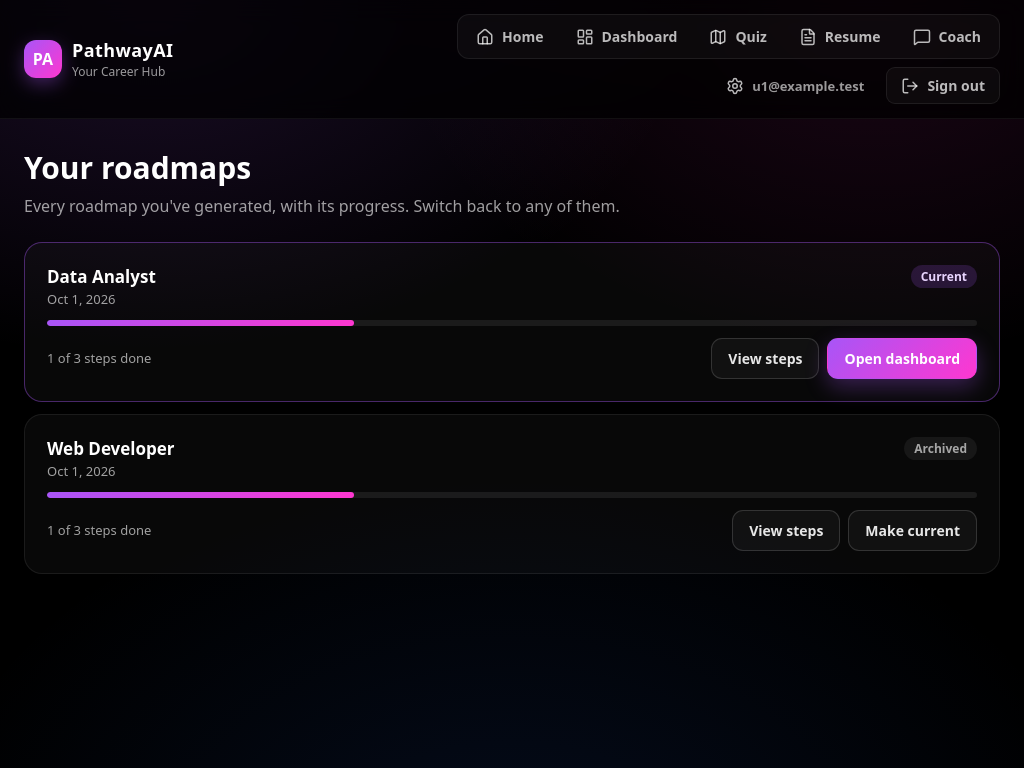
Test: /roadmaps › makes an archived roadmap current and reloads
Click the button "Make current": (913,530) [848,510,977,551]
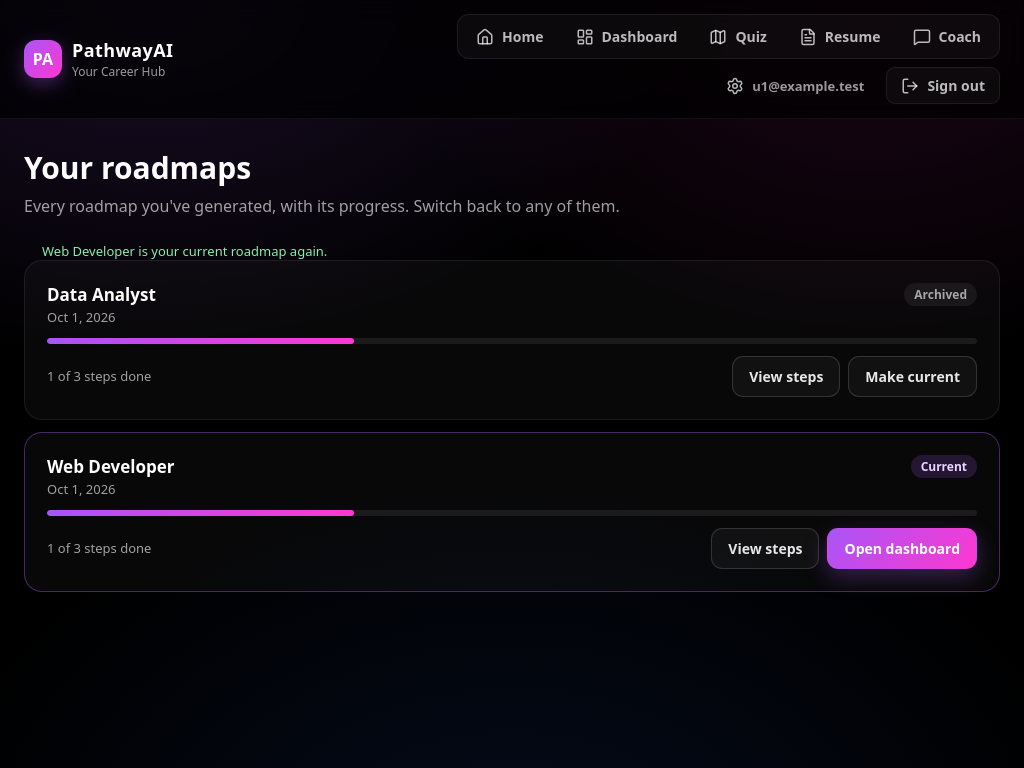
Check: the text "Web Developer is your current roadmap again." is shown, box [42,242,327,260]
